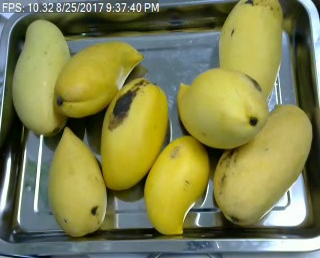Mango: (210, 100, 313, 228), (213, 0, 290, 114), (101, 74, 170, 194), (44, 126, 115, 238), (170, 70, 268, 150), (13, 15, 77, 136), (147, 132, 215, 233), (59, 43, 142, 121)
